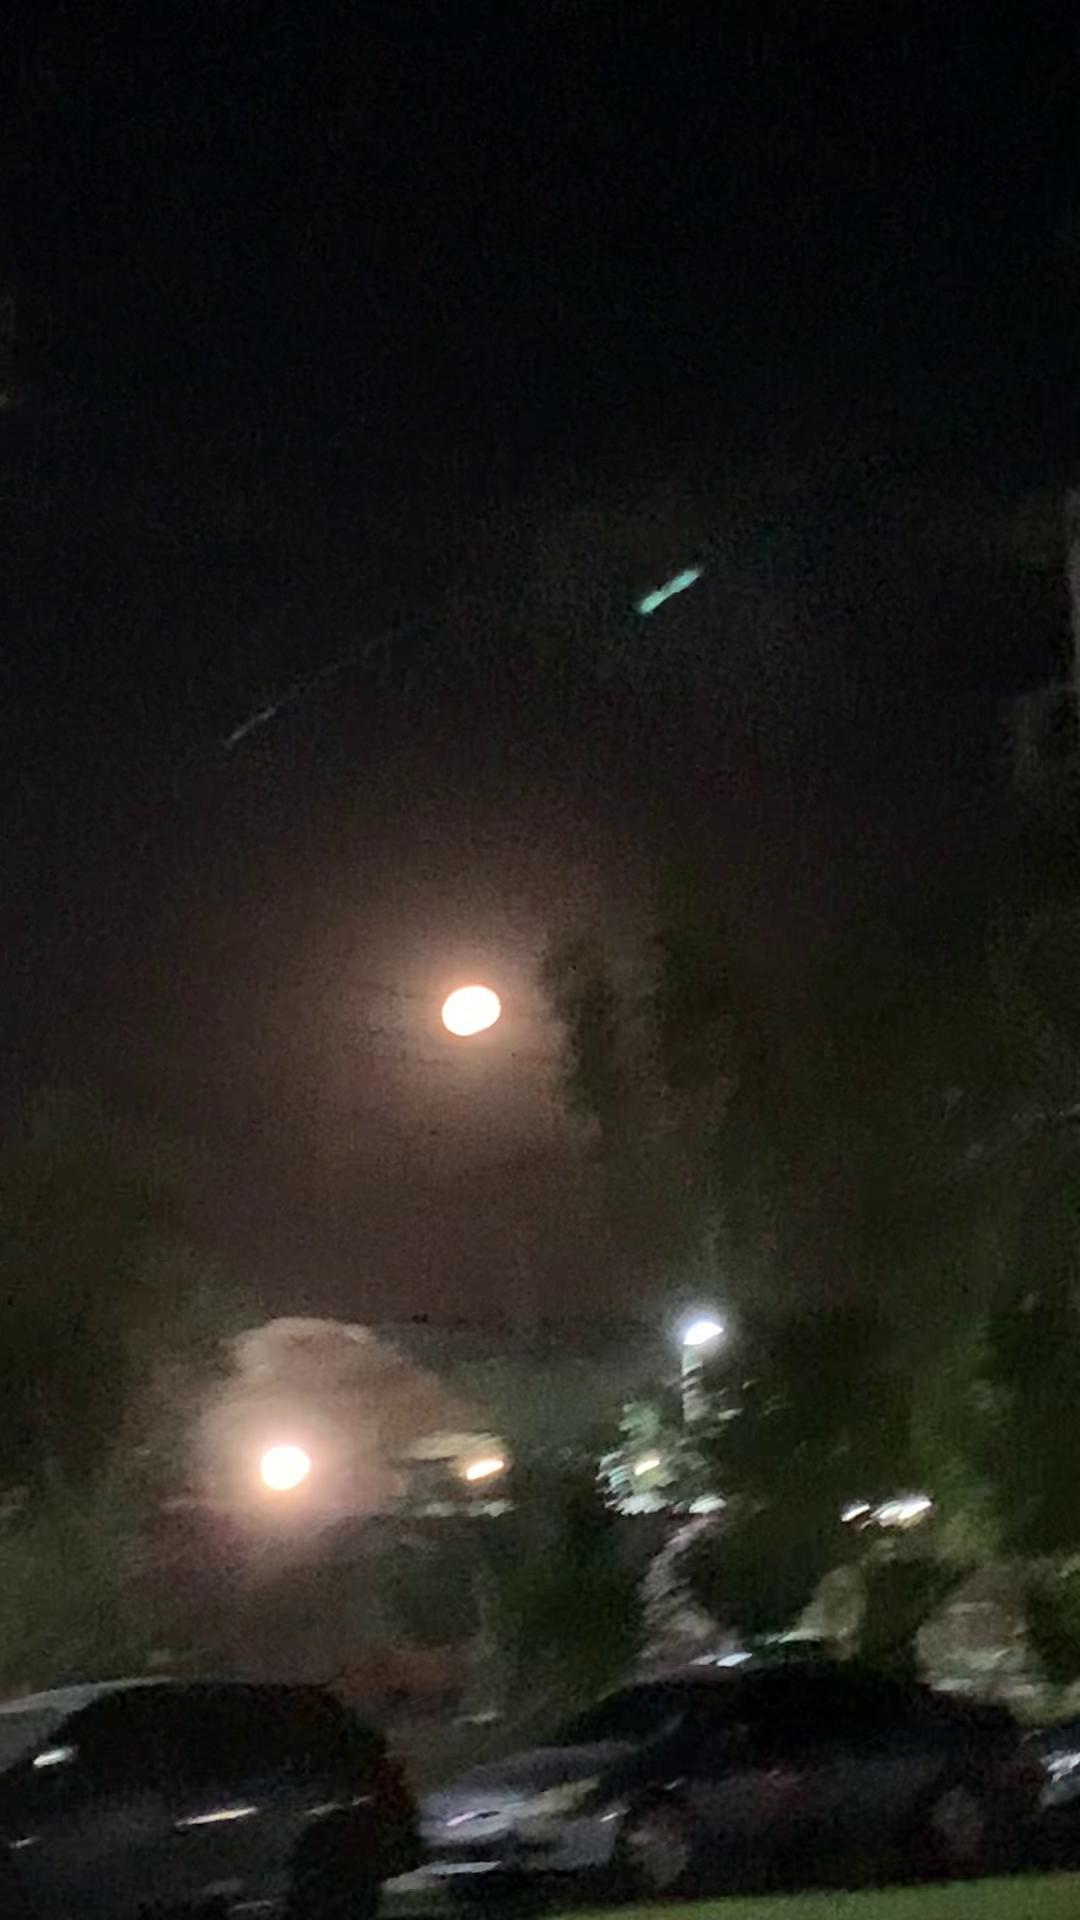moon: (449, 954, 538, 1030)
